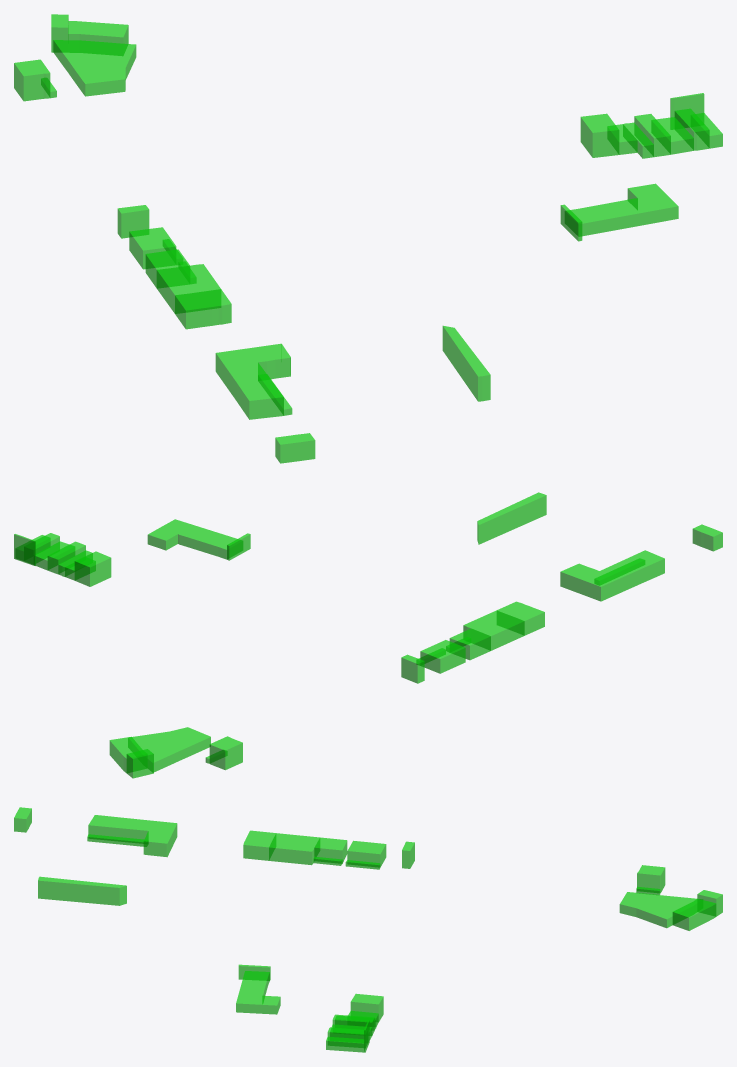
File: XPlanPotential.glb
The picture shows the model from 3 angles, top to bottom: view 1: azimuth 30°, elevation 25°; view 2: azimuth 150°, elevation 25°; view 3: azimuth 270°, elevation 25°; orthographic projection. The views are drawn at different scales.
Size of the model in its own units: 333 by 15 by 430.
